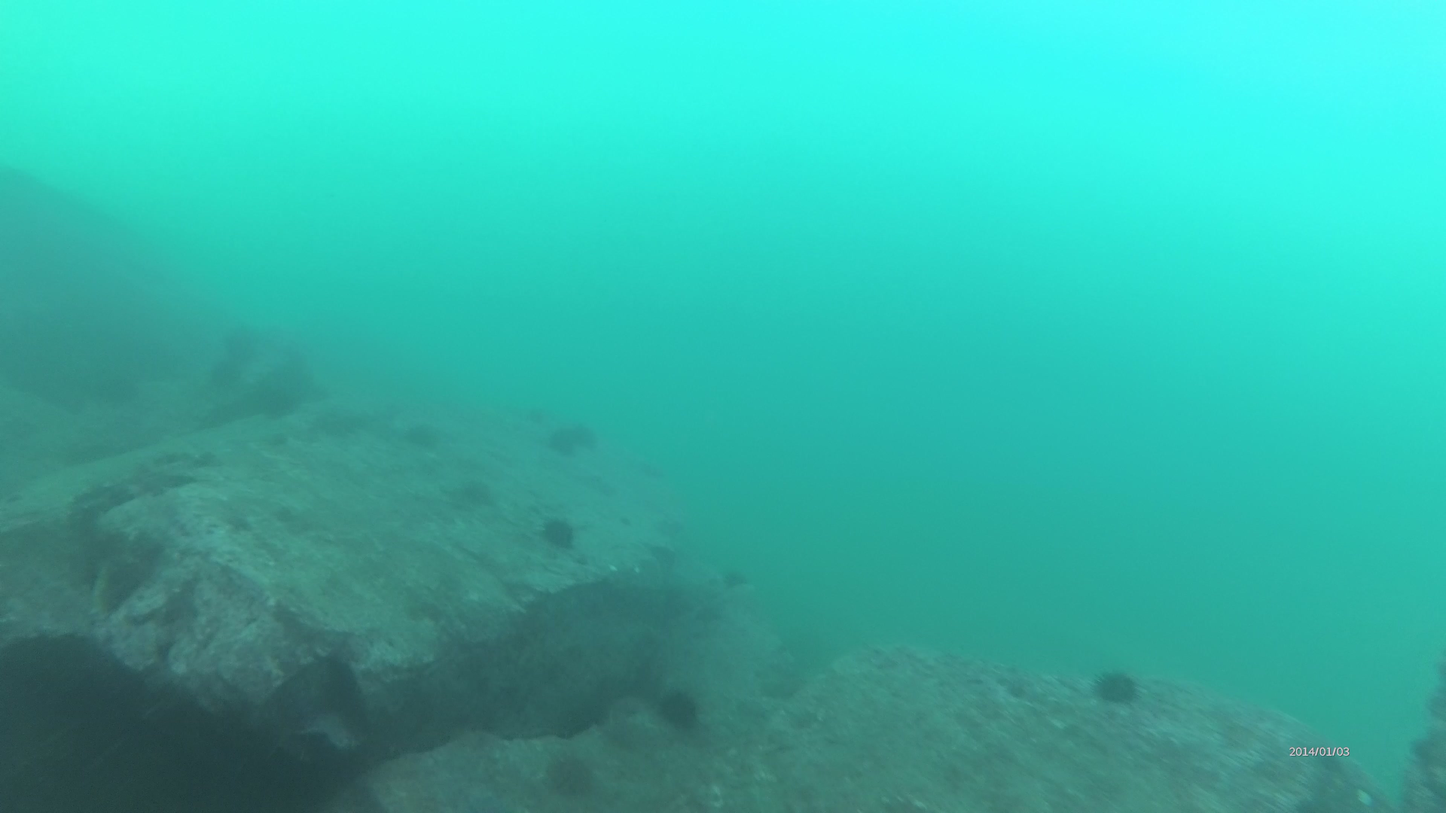starfish: (536, 740, 596, 802), (654, 683, 711, 732), (1088, 664, 1141, 705), (537, 510, 578, 554)
